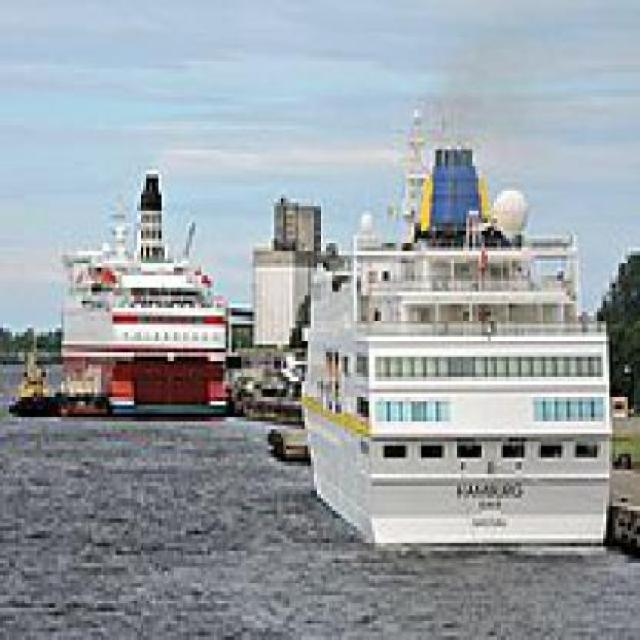cruise: (299, 98, 632, 569), (65, 179, 242, 426)
